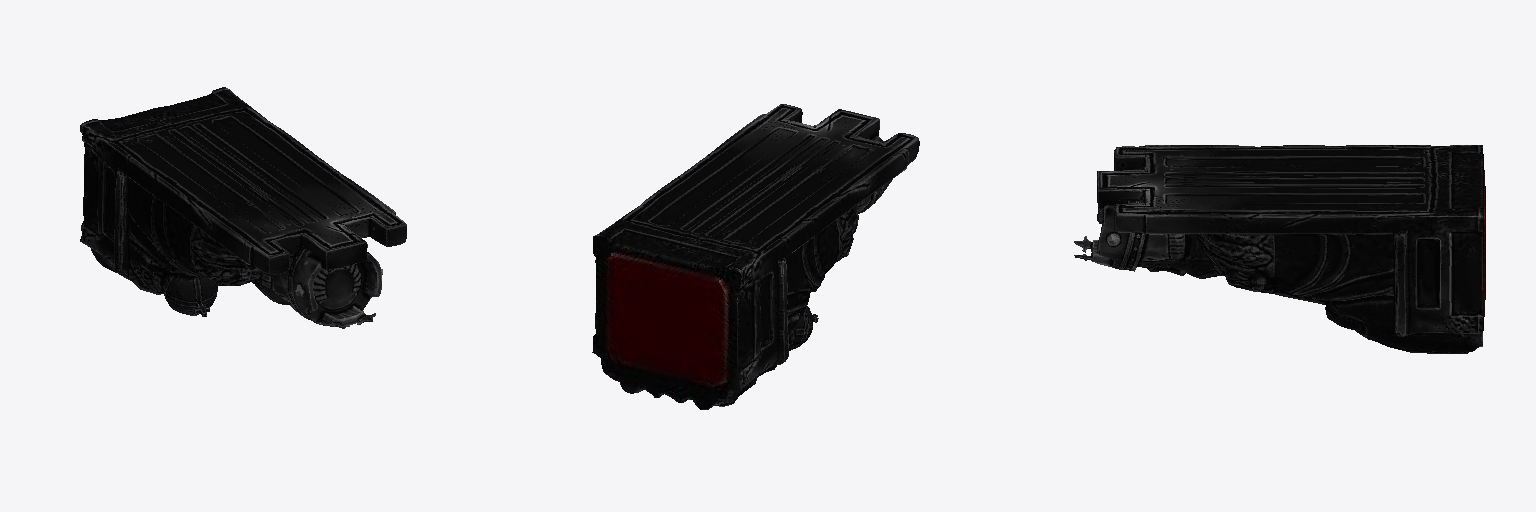
The picture shows the model from 3 angles: view 1: azimuth 30°, elevation 25°; view 2: azimuth 150°, elevation 25°; view 3: azimuth 270°, elevation 25°; orthographic projection.
Parts seen in each view (by area): view 1: mmGroup0; view 2: mmGroup0; view 3: mmGroup0.
Part boxes in pixels (x1,y1,x2,y2): mmGroup0: (80,87,406,328); mmGroup0: (592,104,919,409); mmGroup0: (1074,145,1485,353).
Bounding box in the file's own units: 5.15 × 4.82 × 11.57.
1 materials, 1 textured.